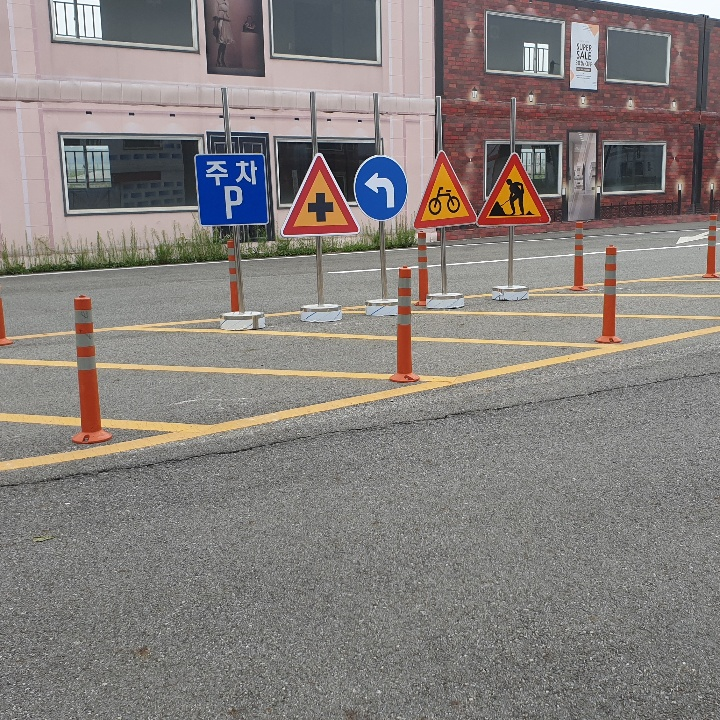bicycle: (414, 152, 477, 222)
const: (487, 174, 538, 220)
inter: (304, 187, 338, 225)
left: (358, 168, 401, 211)
parking: (218, 181, 247, 220)
